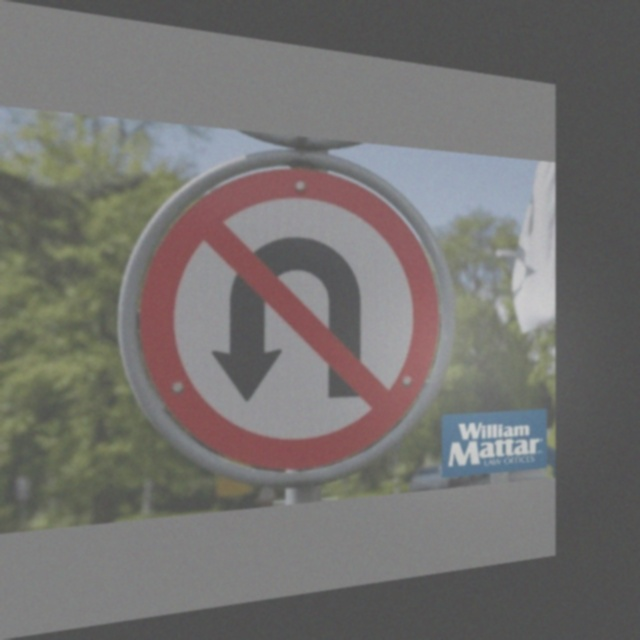U_Turn_Prohibited: (126, 140, 438, 468)
